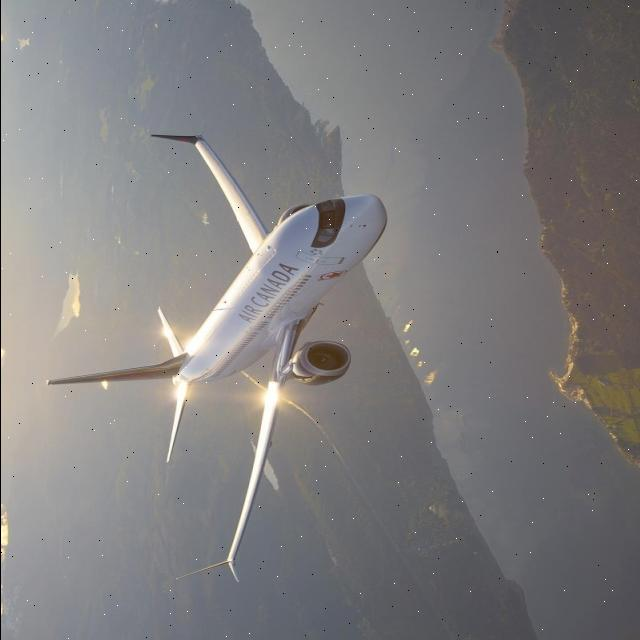aircraft: (7, 95, 462, 623)
